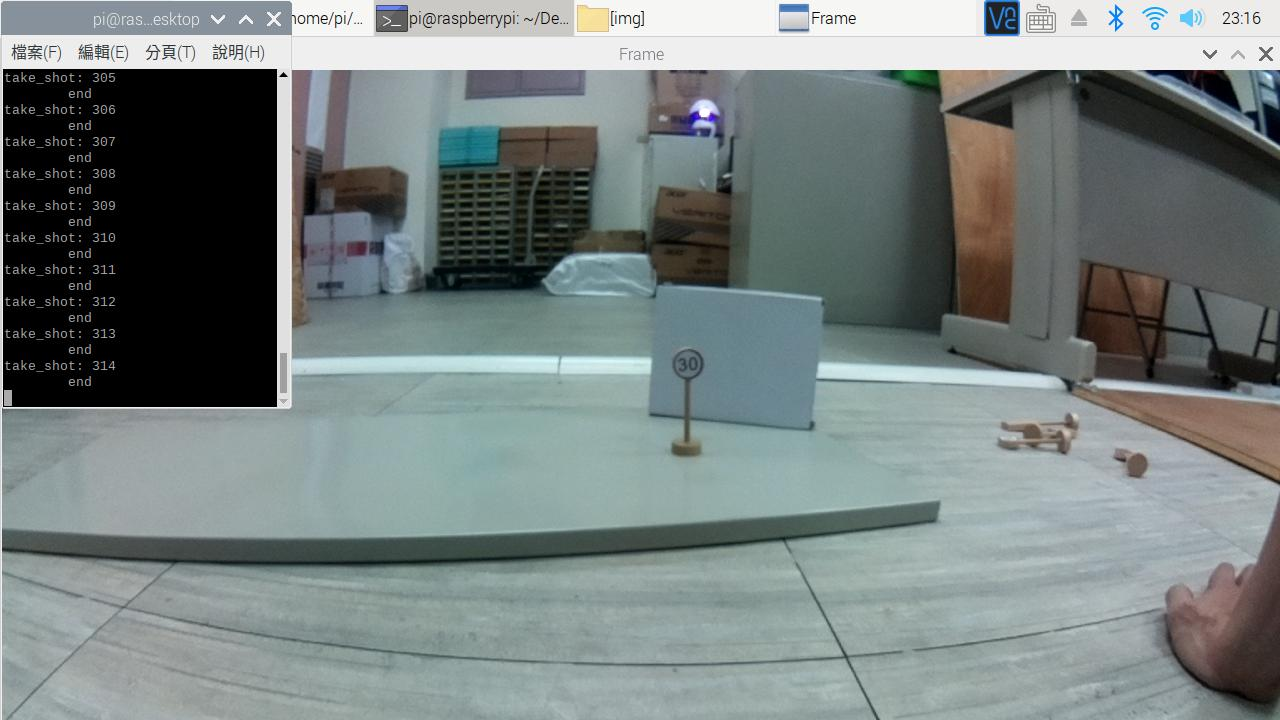Speed30: (657, 342, 722, 395)
